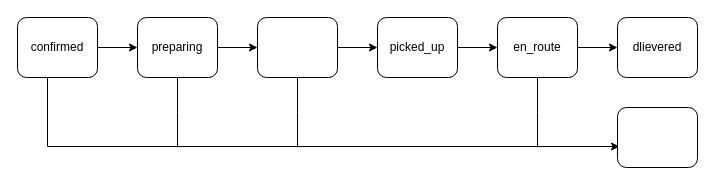
This 715x185 diagram has some shape labels left out. Here are the shapes that lost their labels. From the top down, the box of each, then its label:
(256, 16, 338, 78): ready
(616, 106, 698, 168): cancelled
